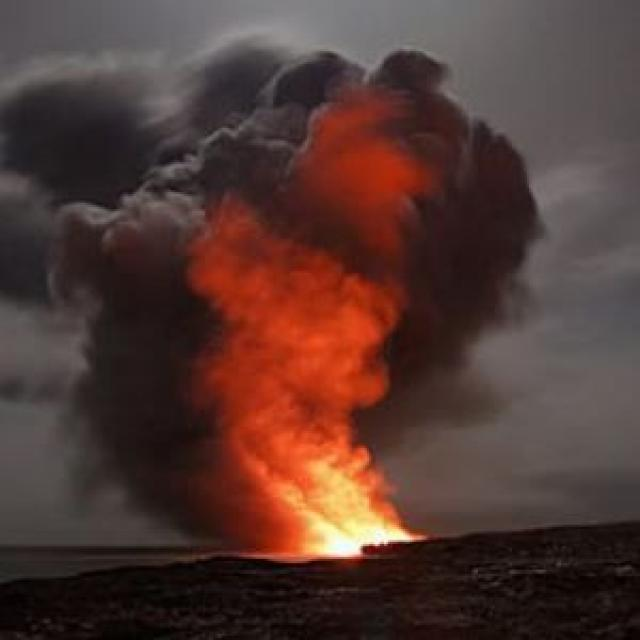Fire: (299, 511, 424, 569)
Smoke: (0, 36, 545, 491)
